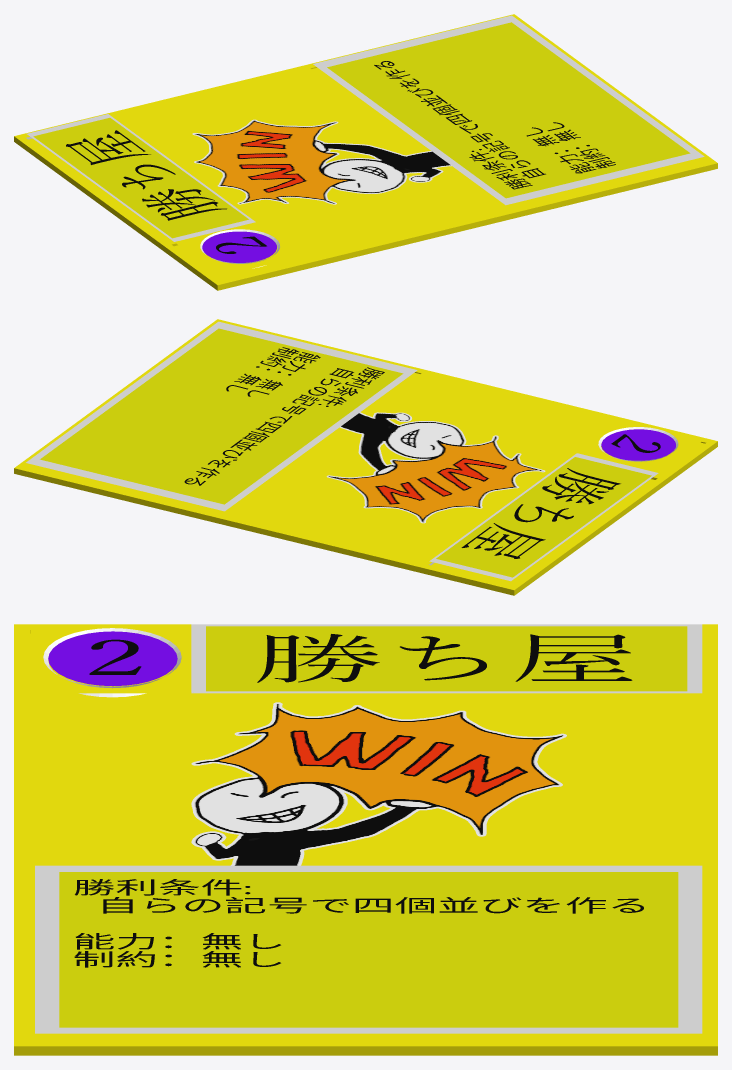
File: 勝ち屋黄.fbx
The picture shows the model from 3 angles, top to bottom: view 1: azimuth 30°, elevation 25°; view 2: azimuth 150°, elevation 25°; view 3: azimuth 270°, elevation 25°; orthographic projection. The views are drawn at different scales.
Parts seen in each view (by area): view 1: カード本体.001, 説明欄, 平面.001, 名前欄, 説明文, 名前, 円, 平面; view 2: カード本体.001, 説明欄, 平面.001, 名前欄, 説明文, 名前, 円, 平面; view 3: カード本体.001, 説明欄, 平面.001, 名前欄, 説明文, 平面, 円, 名前, コスト蘭.
Boxes of the visible parts, x1,y1,x2,y2 form: カード本体.001: (14,14,717,290); 説明欄: (313,15,704,205); 平面.001: (192,119,451,204); 名前欄: (27,114,255,241); 説明文: (374,61,615,189); 名前: (66,130,226,220); 円: (202,231,276,262); 平面: (174,222,302,275); カード本体.001: (14,319,717,595); 説明欄: (26,321,417,511); 平面.001: (326,412,545,523); 名前欄: (429,453,658,581); 説明文: (184,347,384,485); 名前: (461,468,620,558); 円: (601,429,675,460); 平面: (577,419,704,472); カード本体.001: (14,624,717,1055); 説明欄: (35,865,702,1033); 平面.001: (191,702,566,865); 名前欄: (191,624,702,693); 説明文: (74,879,643,967); 平面: (30,624,191,693); 円: (48,631,177,686); 名前: (257,634,632,682); コスト蘭: (43,628,181,697).
Bounding box in the file's own units: 281 × 6.07 × 198.
